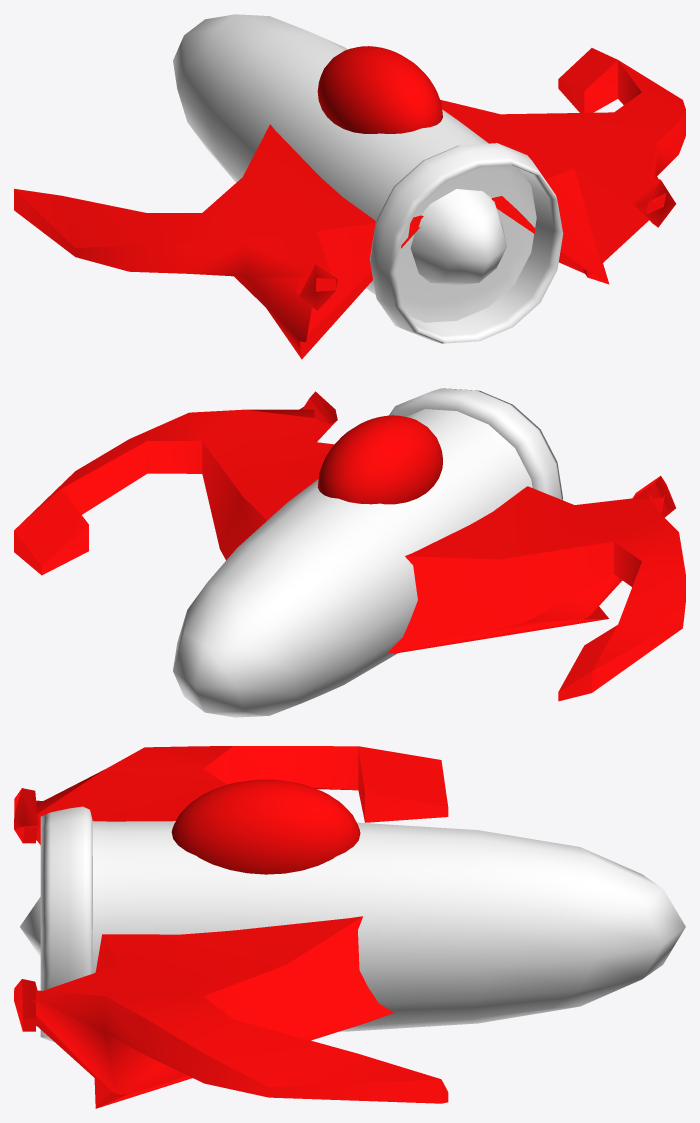
File: spaceship-redwhite.glb
The picture shows the model from 3 angles, top to bottom: view 1: azimuth 30°, elevation 25°; view 2: azimuth 150°, elevation 25°; view 3: azimuth 270°, elevation 25°; orthographic projection. The views are drawn at different scales.
Parts seen in each view (by area): view 1: BodyWings, BodyMain, BodyDome; view 2: BodyWings, BodyMain, BodyDome; view 3: BodyMain, BodyWings, BodyDome.
Boxes of the visible parts, left/top/right/bottom form: BodyWings: left=14, top=48, right=685, bottom=359; BodyMain: left=173, top=14, right=563, bottom=343; BodyDome: left=317, top=46, right=442, bottom=133; BodyWings: left=14, top=391, right=685, bottom=701; BodyMain: left=173, top=388, right=562, bottom=717; BodyDome: left=317, top=415, right=442, bottom=504; BodyMain: left=20, top=806, right=685, bottom=1041; BodyWings: left=14, top=746, right=448, bottom=1108; BodyDome: left=171, top=779, right=360, bottom=874.
Bounding box in the file's own units: 7.51 × 2.6 × 6.36.
